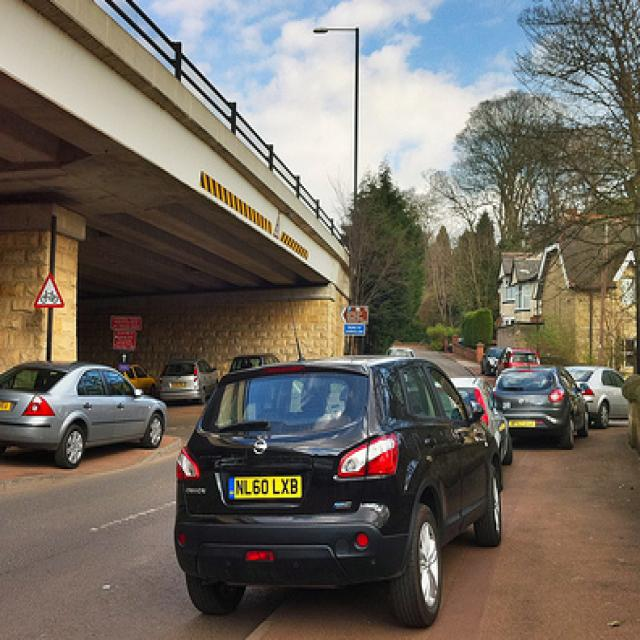license_plate: (228, 471, 307, 501)
